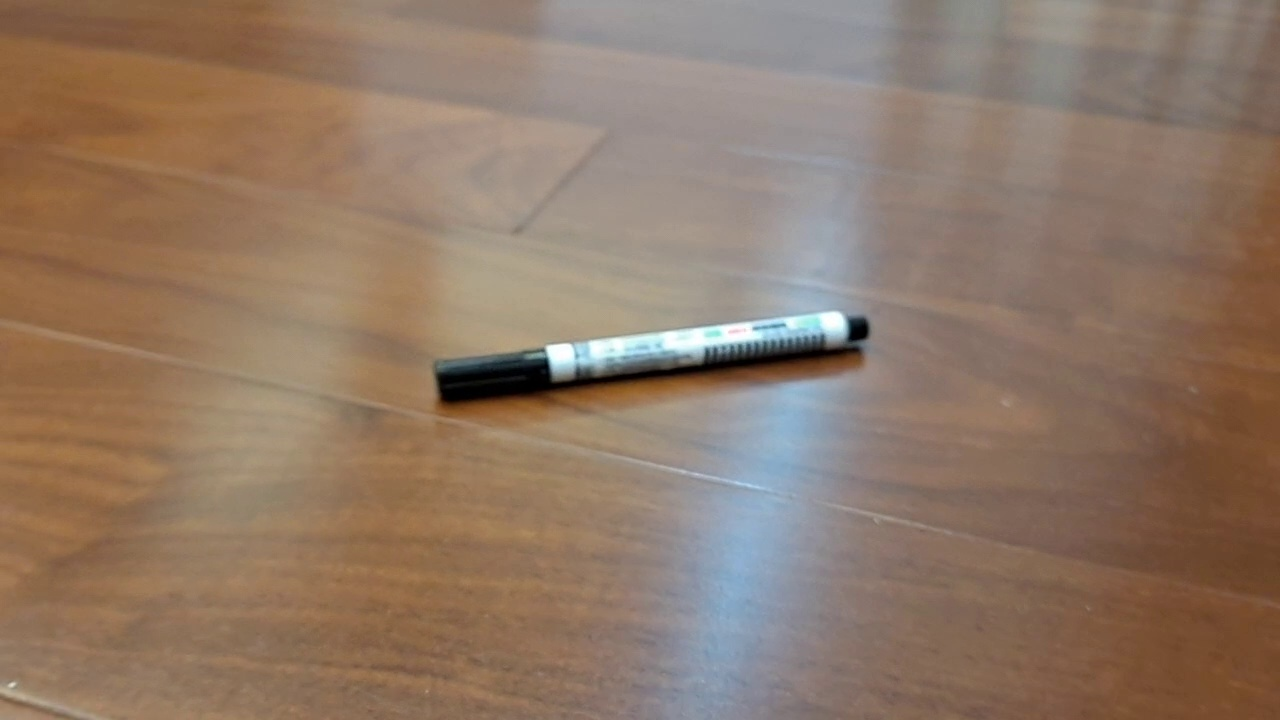pen: (432, 309, 869, 402)
